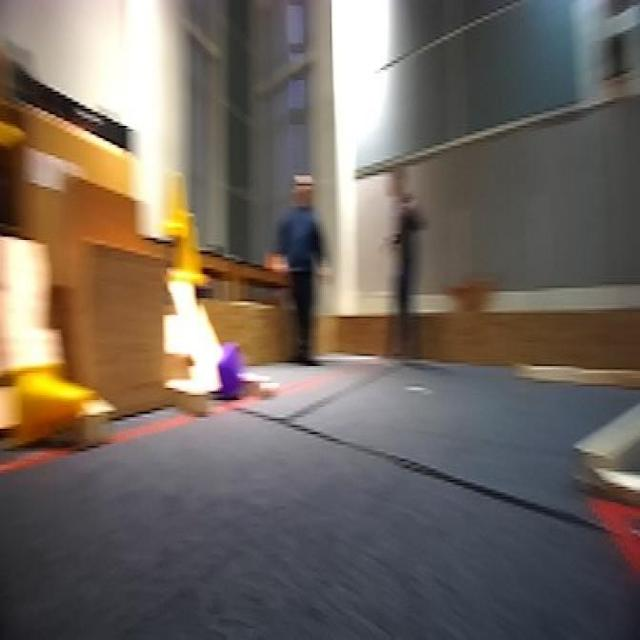frc_cone: (18, 362, 92, 450), (175, 210, 209, 284), (168, 174, 195, 233)
frc_cube: (216, 349, 244, 393)
